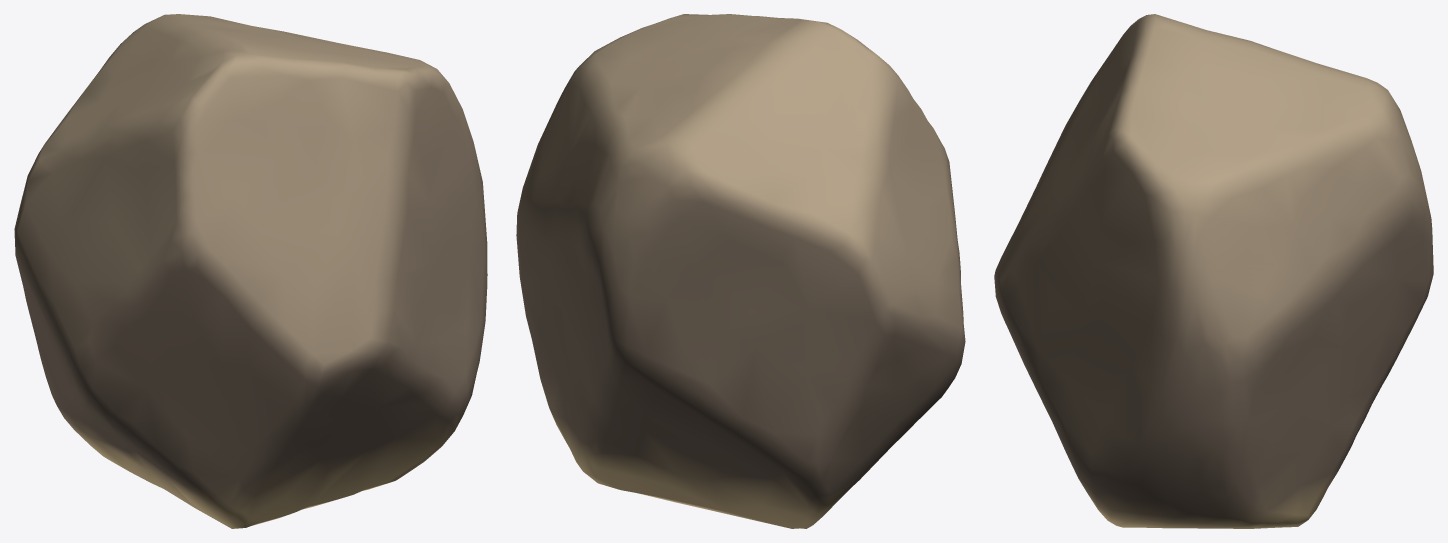
The model's file is rock_c.glb.
3 views of the same model, side by side, from view 1: azimuth 30°, elevation 25°; view 2: azimuth 150°, elevation 25°; view 3: azimuth 270°, elevation 25° (orthographic).
Parts seen in each view (by area): view 1: rock_c_mesh; view 2: rock_c_mesh; view 3: rock_c_mesh.
Boxes of the visible parts, box(x1,y1,x2,y2) form: rock_c_mesh: box(14, 14, 487, 528); rock_c_mesh: box(516, 14, 965, 528); rock_c_mesh: box(994, 14, 1433, 528).
Bounding box in the file's own units: 1.36 × 1.38 × 1.25.
